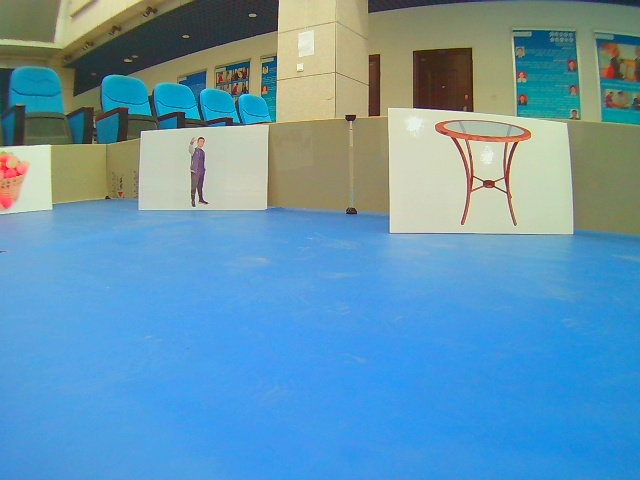person: (137, 125, 270, 211)
table: (388, 108, 575, 235)
